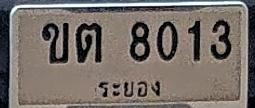0: (156, 20, 178, 60)
1: (187, 19, 200, 60)
3: (210, 19, 231, 59)
8: (130, 21, 150, 61)
A02: (42, 22, 68, 63)
A21: (76, 23, 102, 62)
RYG: (94, 76, 166, 102)
